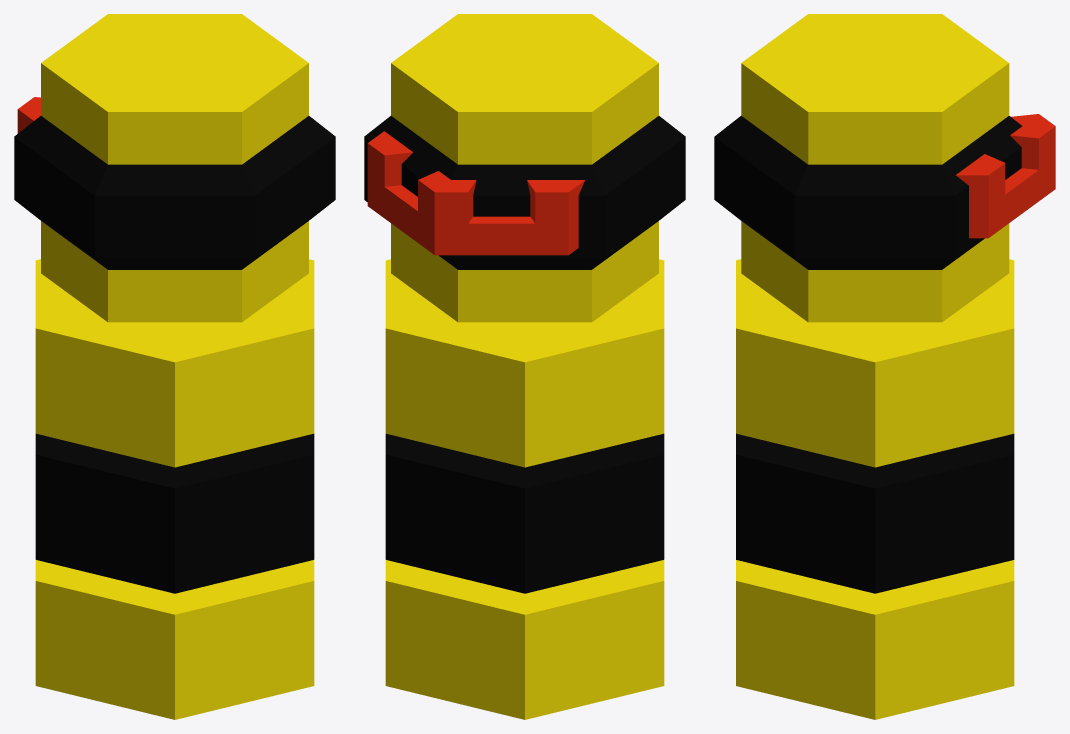
The model's file is friendlybee.glb.
3 views of the same model, side by side, from view 1: azimuth 30°, elevation 25°; view 2: azimuth 150°, elevation 25°; view 3: azimuth 270°, elevation 25° (orthographic).
Visible parts, largest first — view 1: hexagon_ring (×3), hexagon_overhangDetail%, hexagon_castleBattlementFront; view 2: hexagon_ring (×3), hexagon_overhangDetail%, hexagon_castleBattlementFront; view 3: hexagon_ring (×3), hexagon_overhangDetail%, hexagon_castleBattlementFront.
Boxes of the visible parts, box(x1,y1,x2,y2) form: hexagon_ring (×3): box(35, 259, 314, 719); hexagon_overhangDetail%: box(14, 14, 335, 322); hexagon_castleBattlementFront: box(17, 97, 40, 133); hexagon_ring (×3): box(385, 259, 664, 719); hexagon_overhangDetail%: box(364, 14, 685, 322); hexagon_castleBattlementFront: box(367, 131, 584, 255); hexagon_ring (×3): box(736, 259, 1014, 719); hexagon_overhangDetail%: box(714, 14, 1022, 322); hexagon_castleBattlementFront: box(956, 114, 1055, 238).
Size of the model in its own units: 1.39 by 2.8 by 1.47.
